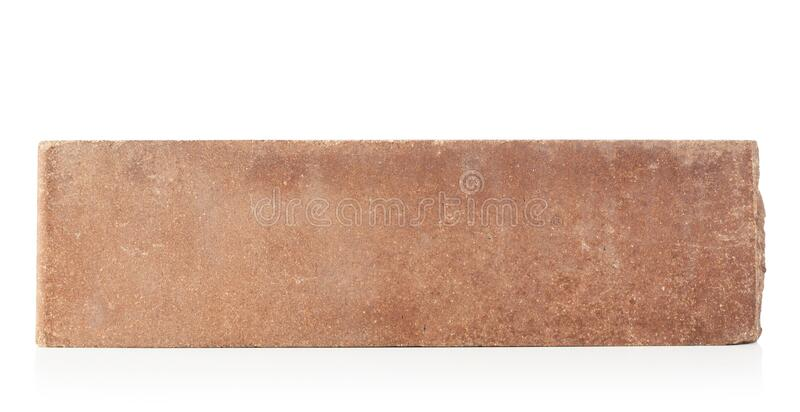brick: (38, 140, 762, 343)
